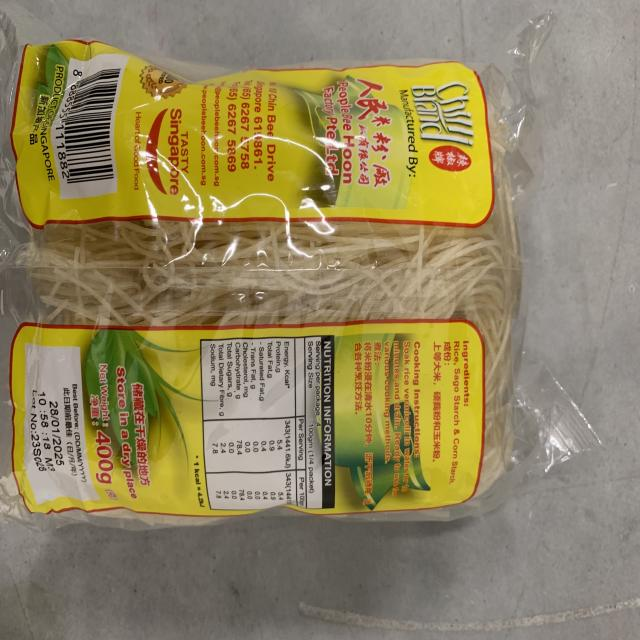object_name: (5, 36, 514, 515)
